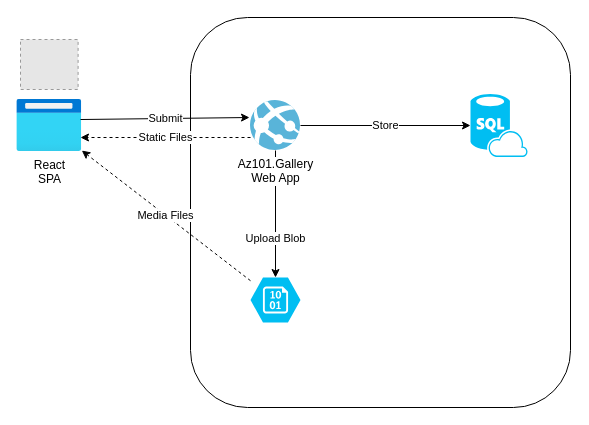
Some shapes in this 589 by 425 pixel diagram are drawn without their labels. Grey dashed boxes stand in for pictures. The shapes that lost their labels are listed below. From the top down, each one's centre as x and y in pixels, then its label:
pixel 498 125: Azure SQL Server
pixel 275 299: Azure Blob Storage
